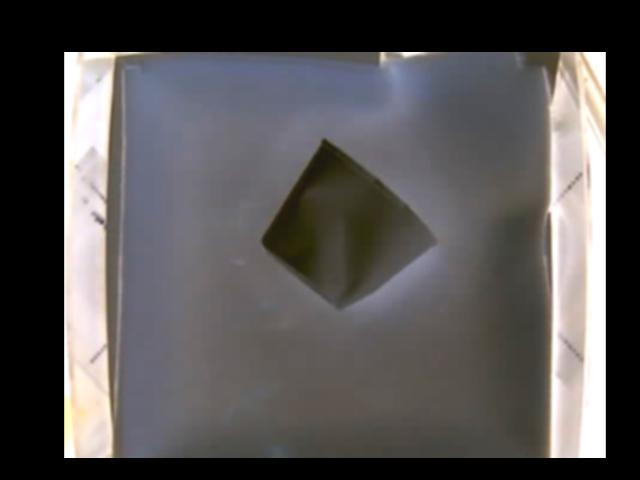Cup: (264, 139, 438, 311)
